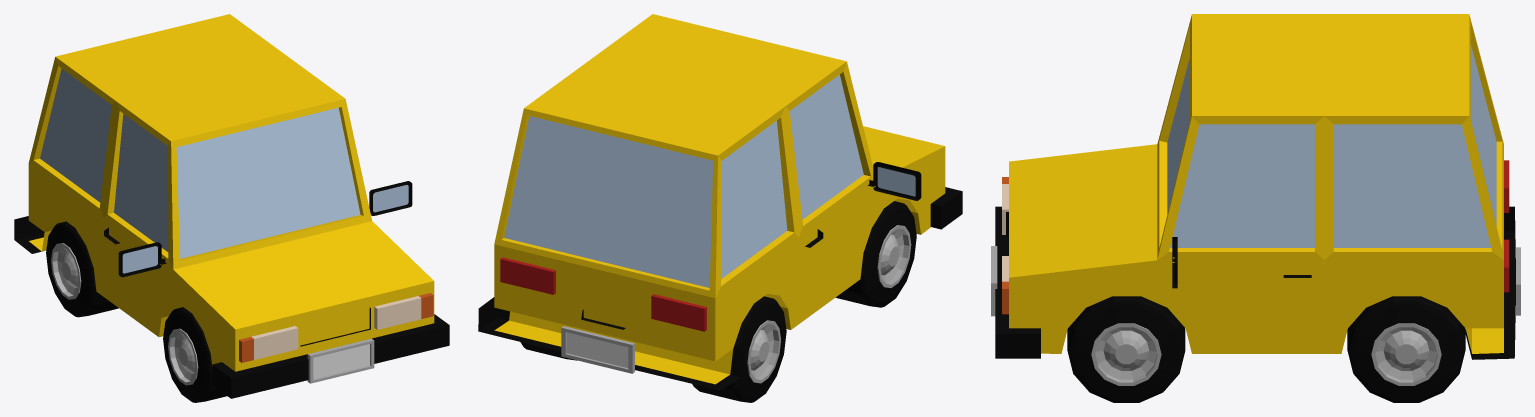
Rendered from car_low_poly.glb.
The picture shows the model from 3 angles, left to right: view 1: azimuth 30°, elevation 25°; view 2: azimuth 150°, elevation 25°; view 3: azimuth 270°, elevation 25°; orthographic projection. The views are drawn at different scales.
Parts seen in each view (by area): view 1: Plane; view 2: Plane; view 3: Plane.
Boxes of the visible parts, x1=… form: Plane: x1=14, y1=14, x2=449, y2=402; Plane: x1=478, y1=14, x2=962, y2=402; Plane: x1=991, y1=14, x2=1520, y2=402.
Bounding box in the file's own units: 2.05 × 1.58 × 2.69.
